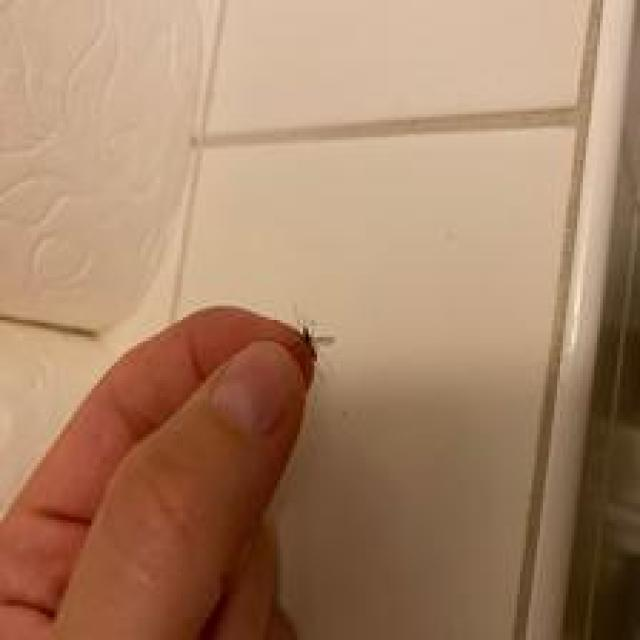Culex: (296, 317, 336, 354)
